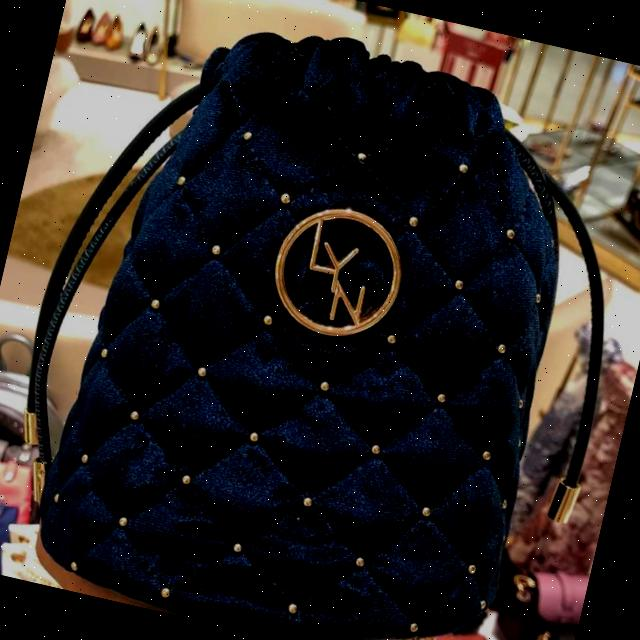Handbag: (20, 0, 624, 640)
